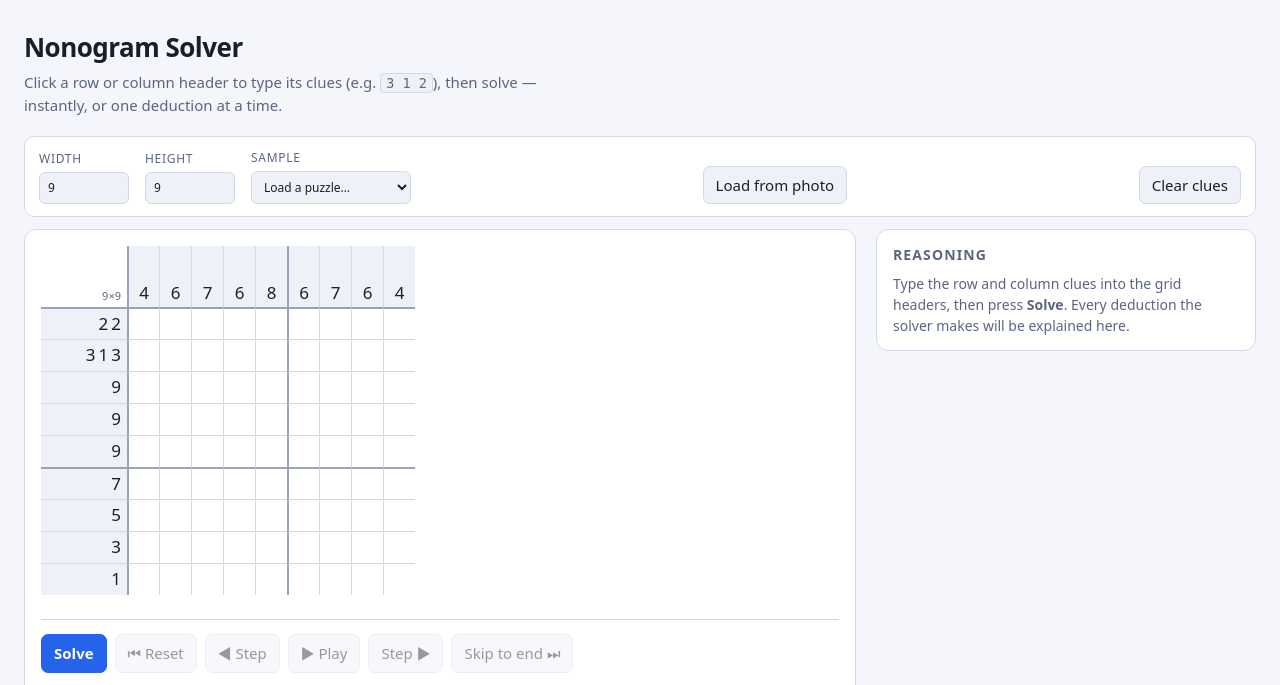
Test: the page › accepts clues typed into a header and advances with Enter
Step 1. Click the button with class "clue-row" showing "2 2" → [84, 323], box [41,307,127,339]
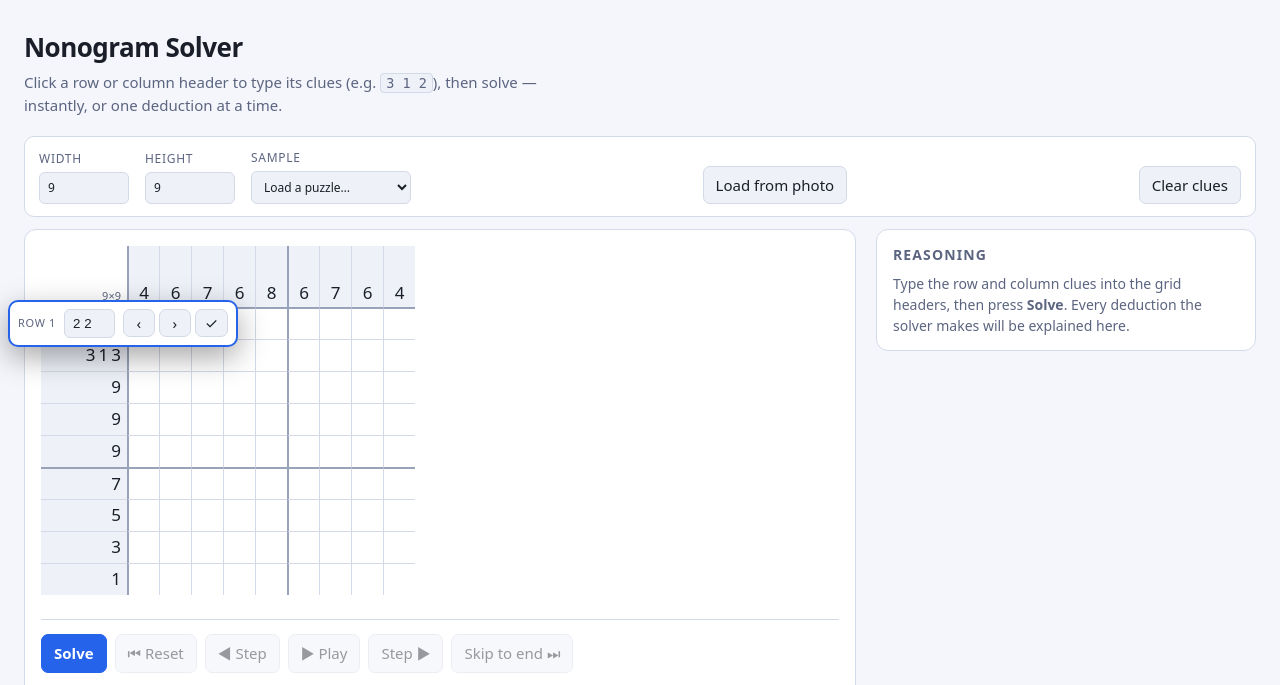
Step 2. Replace the text in the field named "Row 1 clues" with "4 4" → [89, 323], box [64,308,115,338]
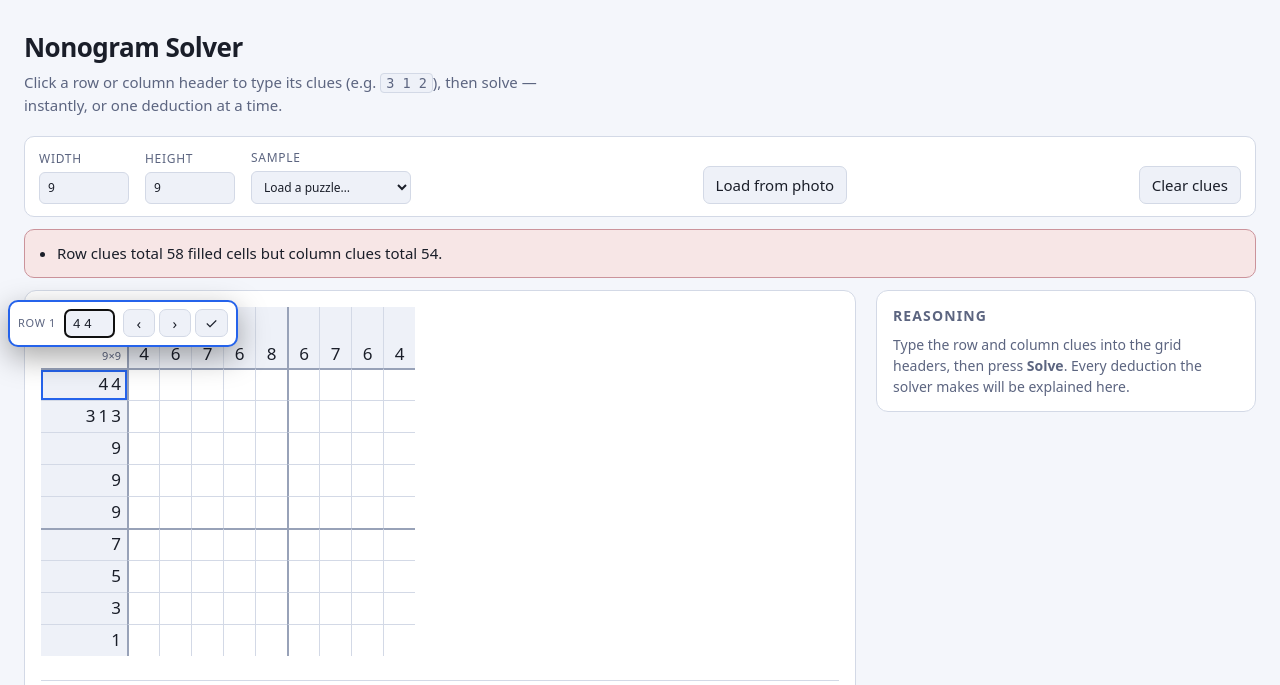
Check: the button with class "clue-row" reads "4 4", box [41,368,127,400]
Step 3. Press Enter
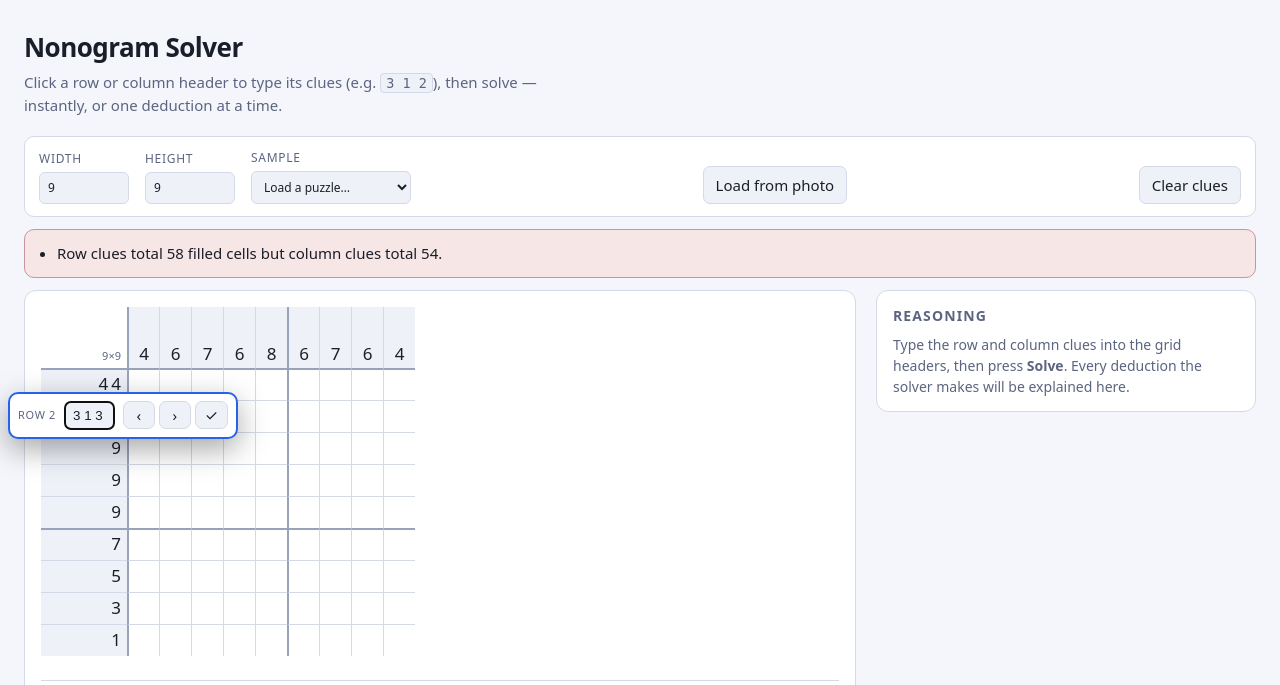
Check: the field named "Row 2 clues" is shown, box [64,401,115,430]
Step 4. Press Escape
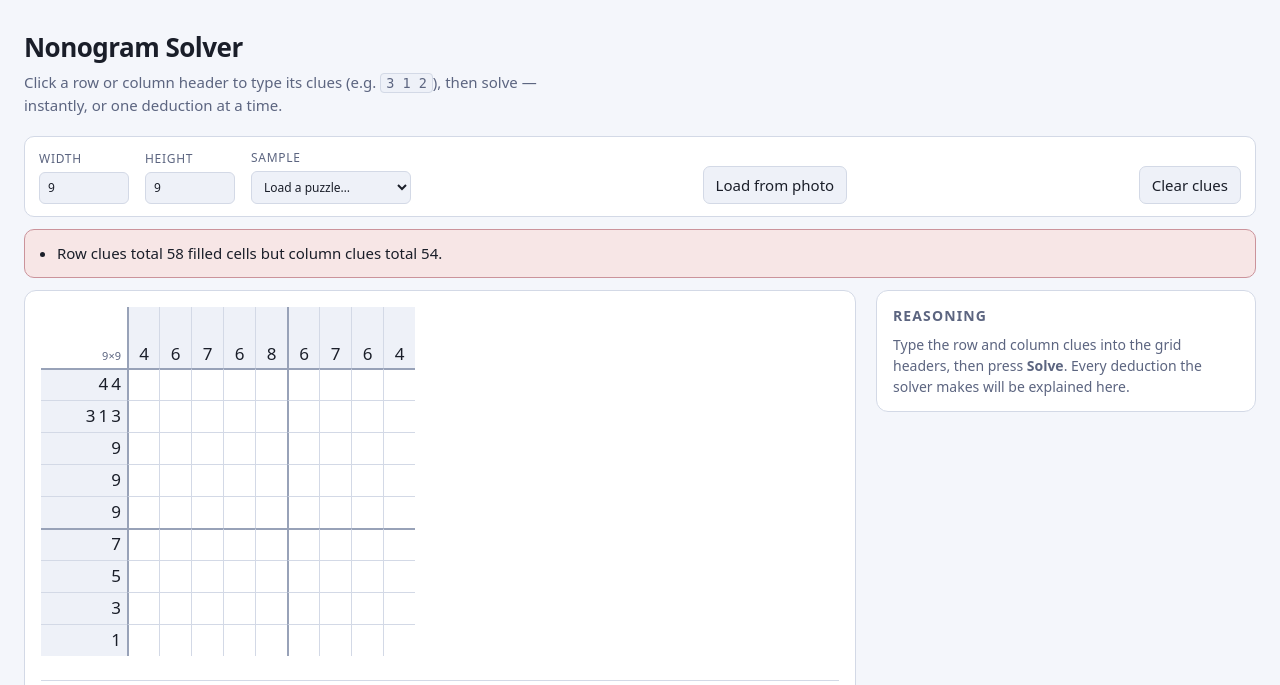
Check: the button with class "clue-row" reads "4 4", box [41,368,127,400]
Check: the field is gone
